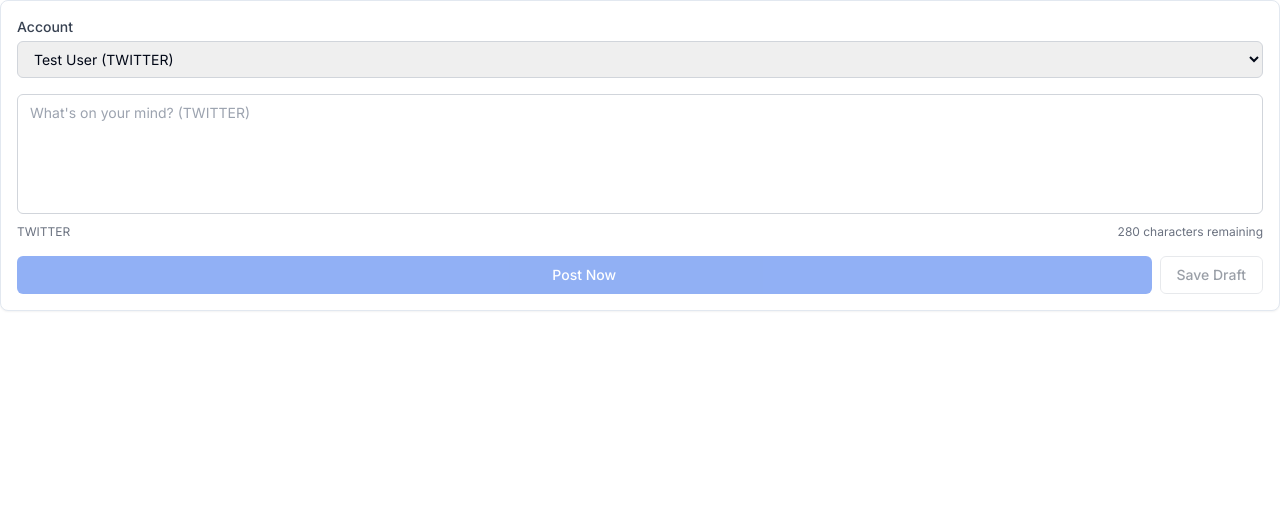
Test: PostComposer › should expand on focus and show hashtag input
The width and height of the screenshot is (1280, 508).
What coordinates should you click on to do the following:
click the text box named "Post content"
I would click on:
 (640, 154)
Its box is [17, 94, 1263, 214].
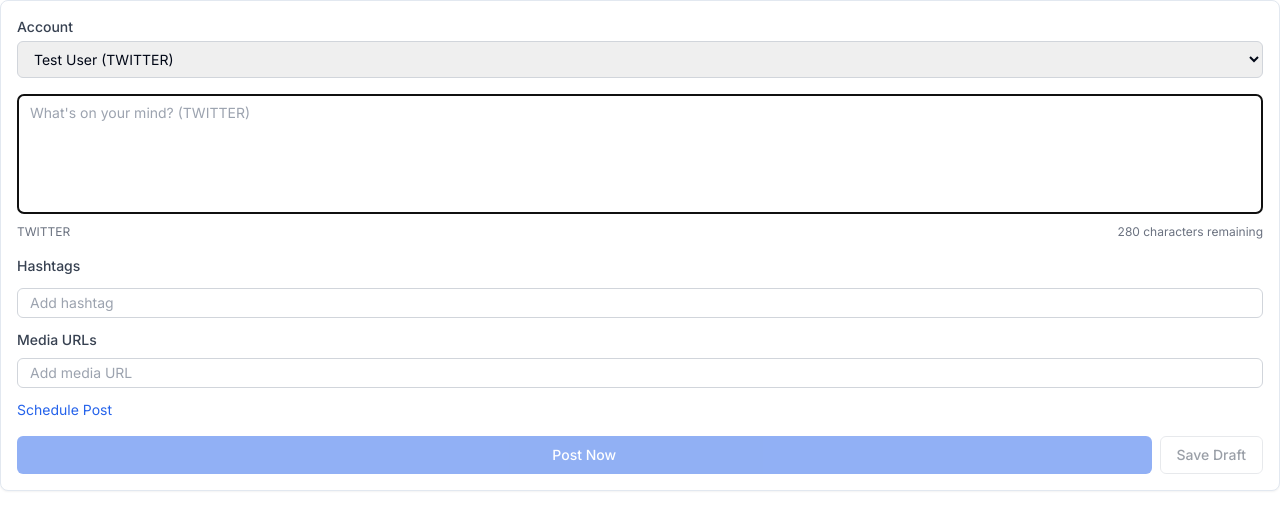
Check: the field with placeholder "Add hashtag" is shown, box [17, 288, 1263, 318]
